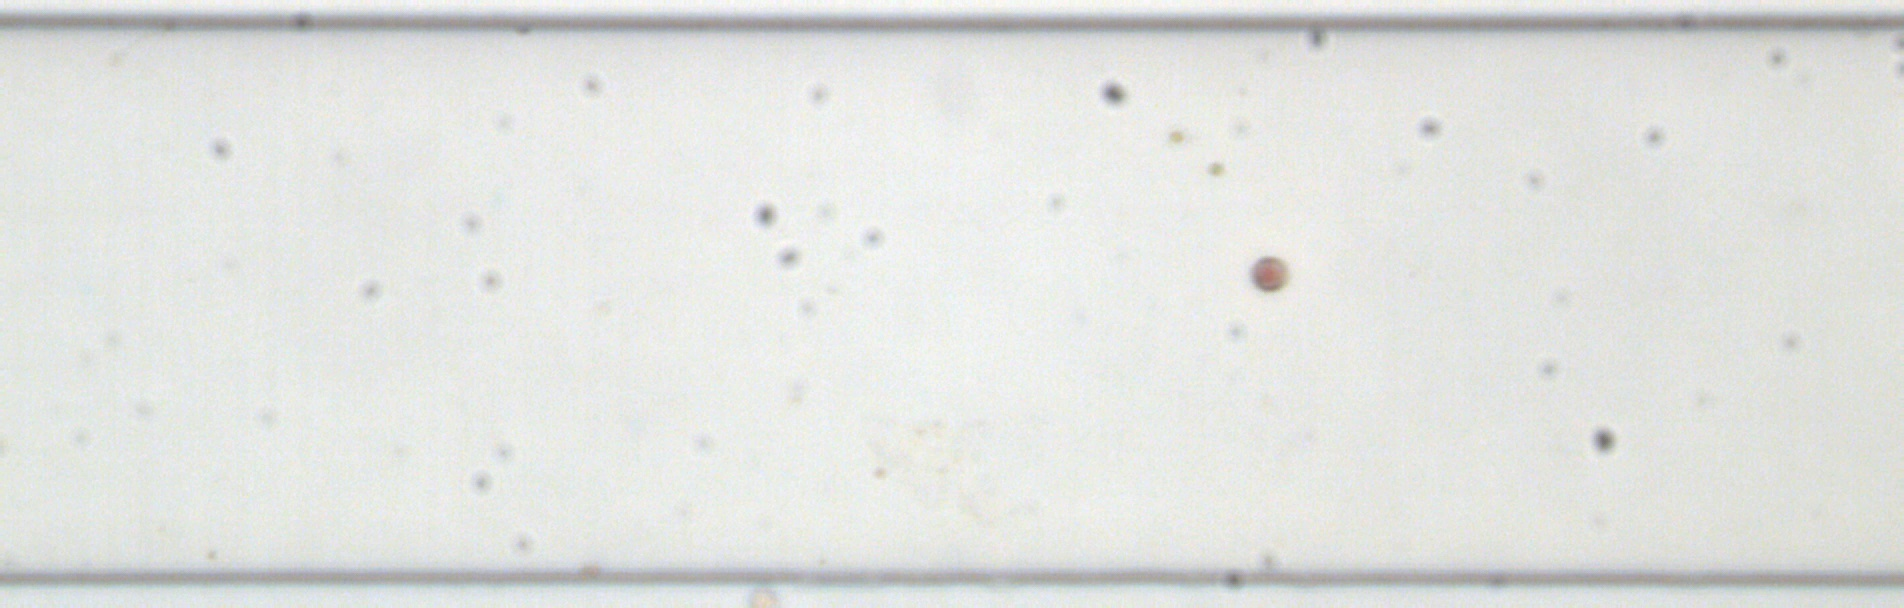Chlorella: (1207, 158, 1223, 176), (1166, 127, 1181, 144)
Porphyridium: (1248, 254, 1290, 294)
